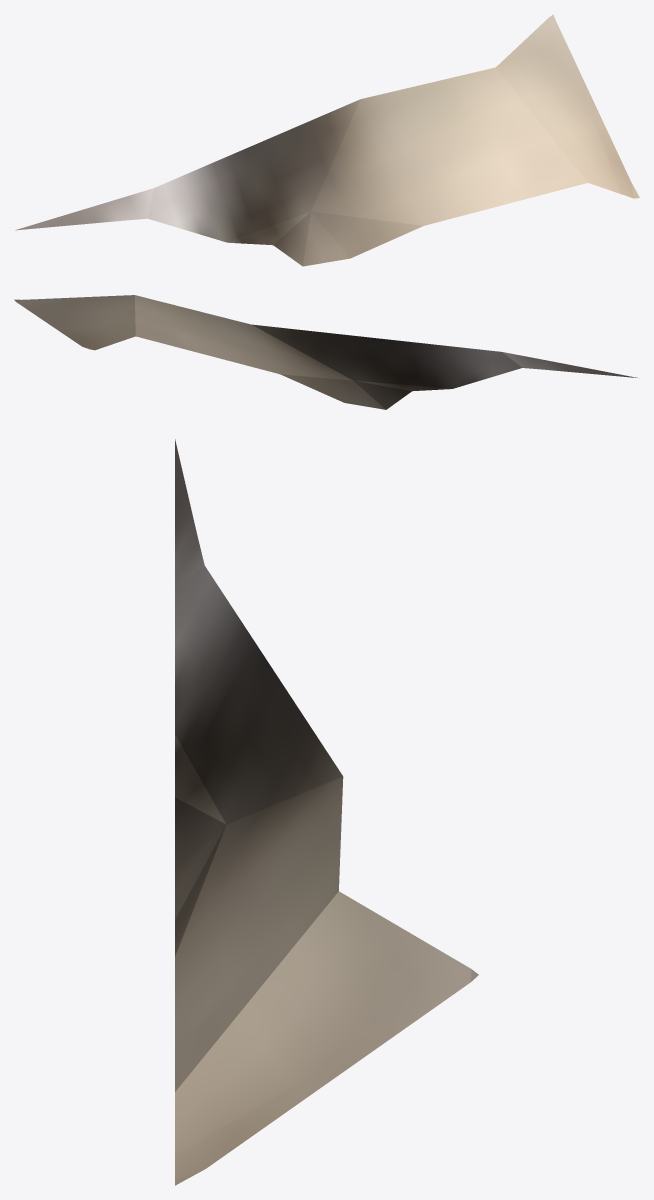
3 views of the same model, one above another, from view 1: azimuth 30°, elevation 25°; view 2: azimuth 150°, elevation 25°; view 3: azimuth 270°, elevation 25° (orthographic). The views are drawn at different scales.
Size of the model in its own units: 0.101 by 0.0185 by 0.0242.
1 material, 1 textured.
